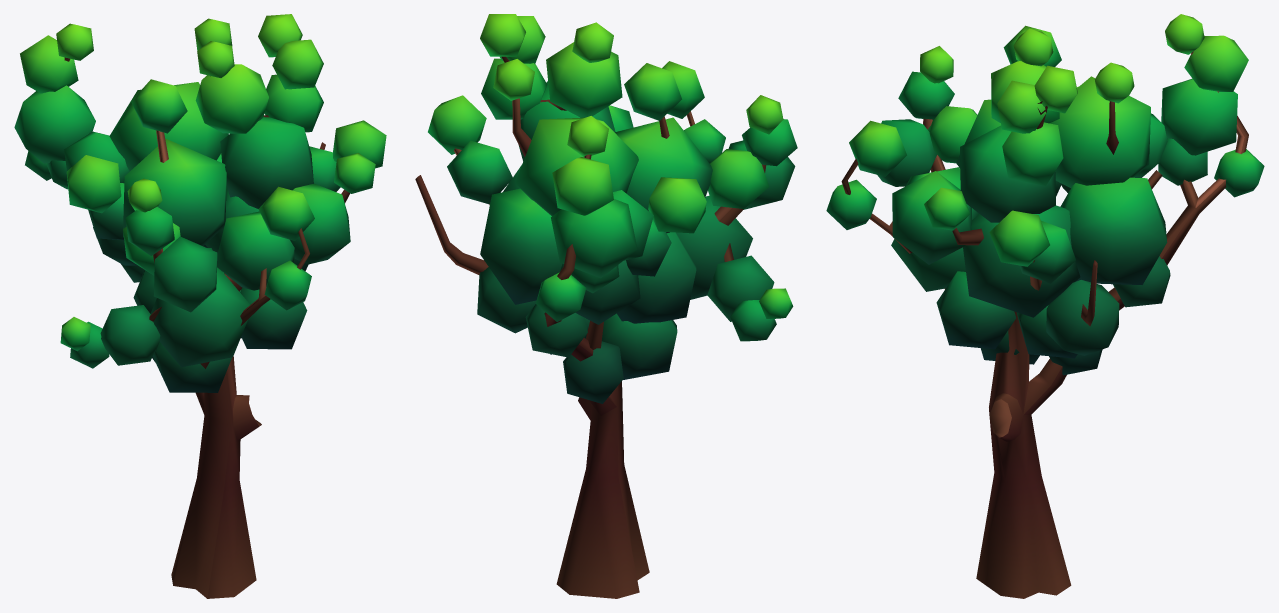
File: Tree_2D.fbx
3 renders of one model, left to right at view 1: azimuth 30°, elevation 25°; view 2: azimuth 150°, elevation 25°; view 3: azimuth 270°, elevation 25°, orthographic. The views are drawn at different scales.
Parts seen in each view (by area): view 1: Tree_2D; view 2: Tree_2D; view 3: Tree_2D.
Boxes of the visible parts, <box> form: Tree_2D: <box>14,14,386,598</box>; Tree_2D: <box>415,14,797,598</box>; Tree_2D: <box>826,14,1264,598</box>.
Size of the model in its own units: 5.39 by 8.31 by 5.95.
